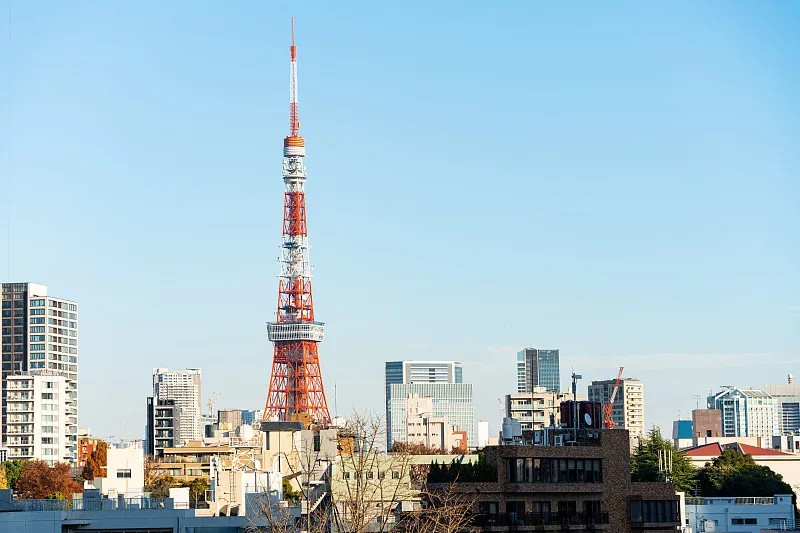Tokyo: (260, 15, 332, 428)
